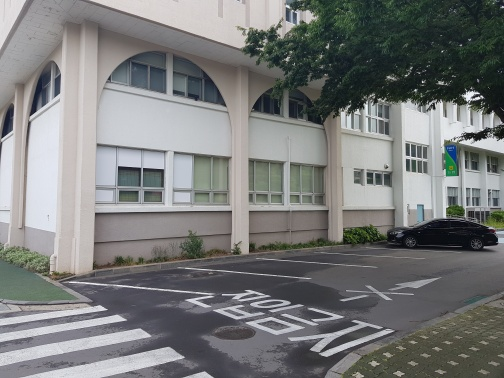Main Building of University: (2, 1, 500, 217), (99, 47, 331, 217), (443, 140, 463, 179)
